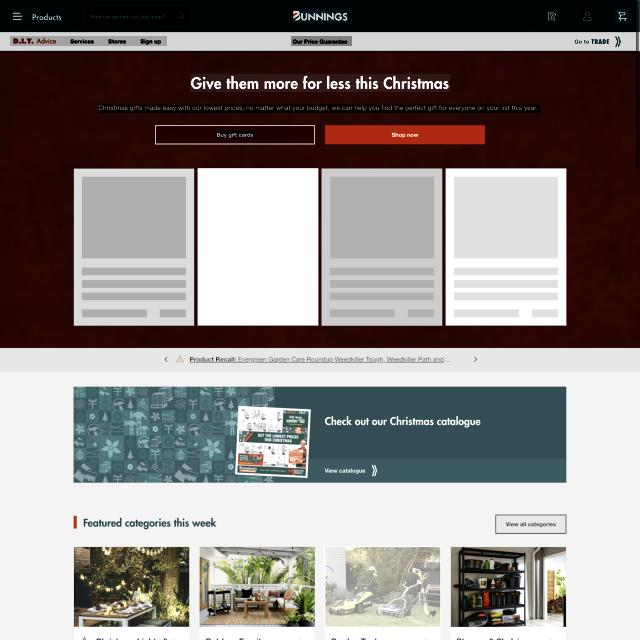CheckBox: (154, 125, 316, 145), (325, 125, 485, 145), (495, 514, 567, 534), (571, 34, 623, 48)
CheckedTextView: (84, 6, 192, 26)
EditText-: (291, 36, 352, 46)
ImageView: (74, 386, 567, 482)
Input field: (99, 104, 542, 113)
ProgressBar: (0, 348, 640, 371)
Spinner: (73, 168, 195, 325), (322, 168, 443, 325), (198, 168, 318, 325)
bag: (0, 0, 637, 52)
carousel: (615, 9, 629, 23), (11, 10, 25, 23), (581, 10, 593, 23), (547, 11, 557, 22), (178, 11, 185, 20)
copy: (324, 546, 441, 627), (200, 546, 314, 627), (451, 547, 566, 627), (75, 547, 189, 627)
data feed: (216, 131, 254, 139)
date picker: (293, 10, 348, 22)
decoration: (10, 36, 167, 46), (11, 11, 25, 25)
footer: (89, 14, 167, 22)
image: (190, 74, 450, 92)
